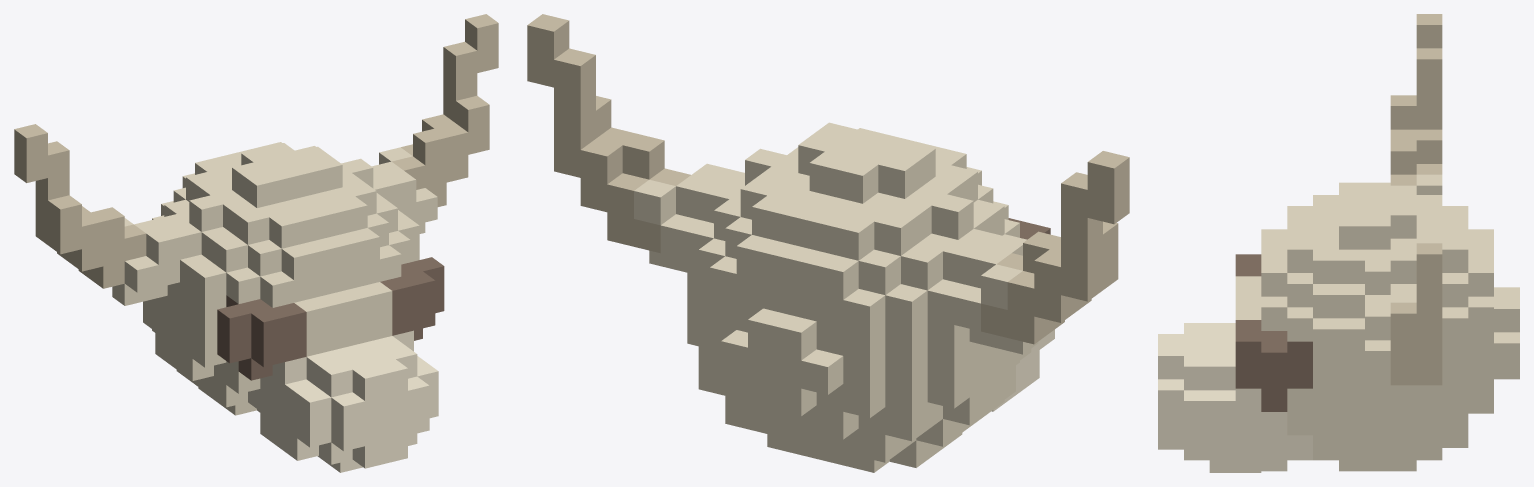
Rendered from horned_skull.glb.
The picture shows the model from 3 angles, left to right: view 1: azimuth 30°, elevation 25°; view 2: azimuth 150°, elevation 25°; view 3: azimuth 270°, elevation 25°; orthographic projection. The views are drawn at different scales.
Size of the model in its own units: 0.9167 by 0.5833 by 0.5833.
